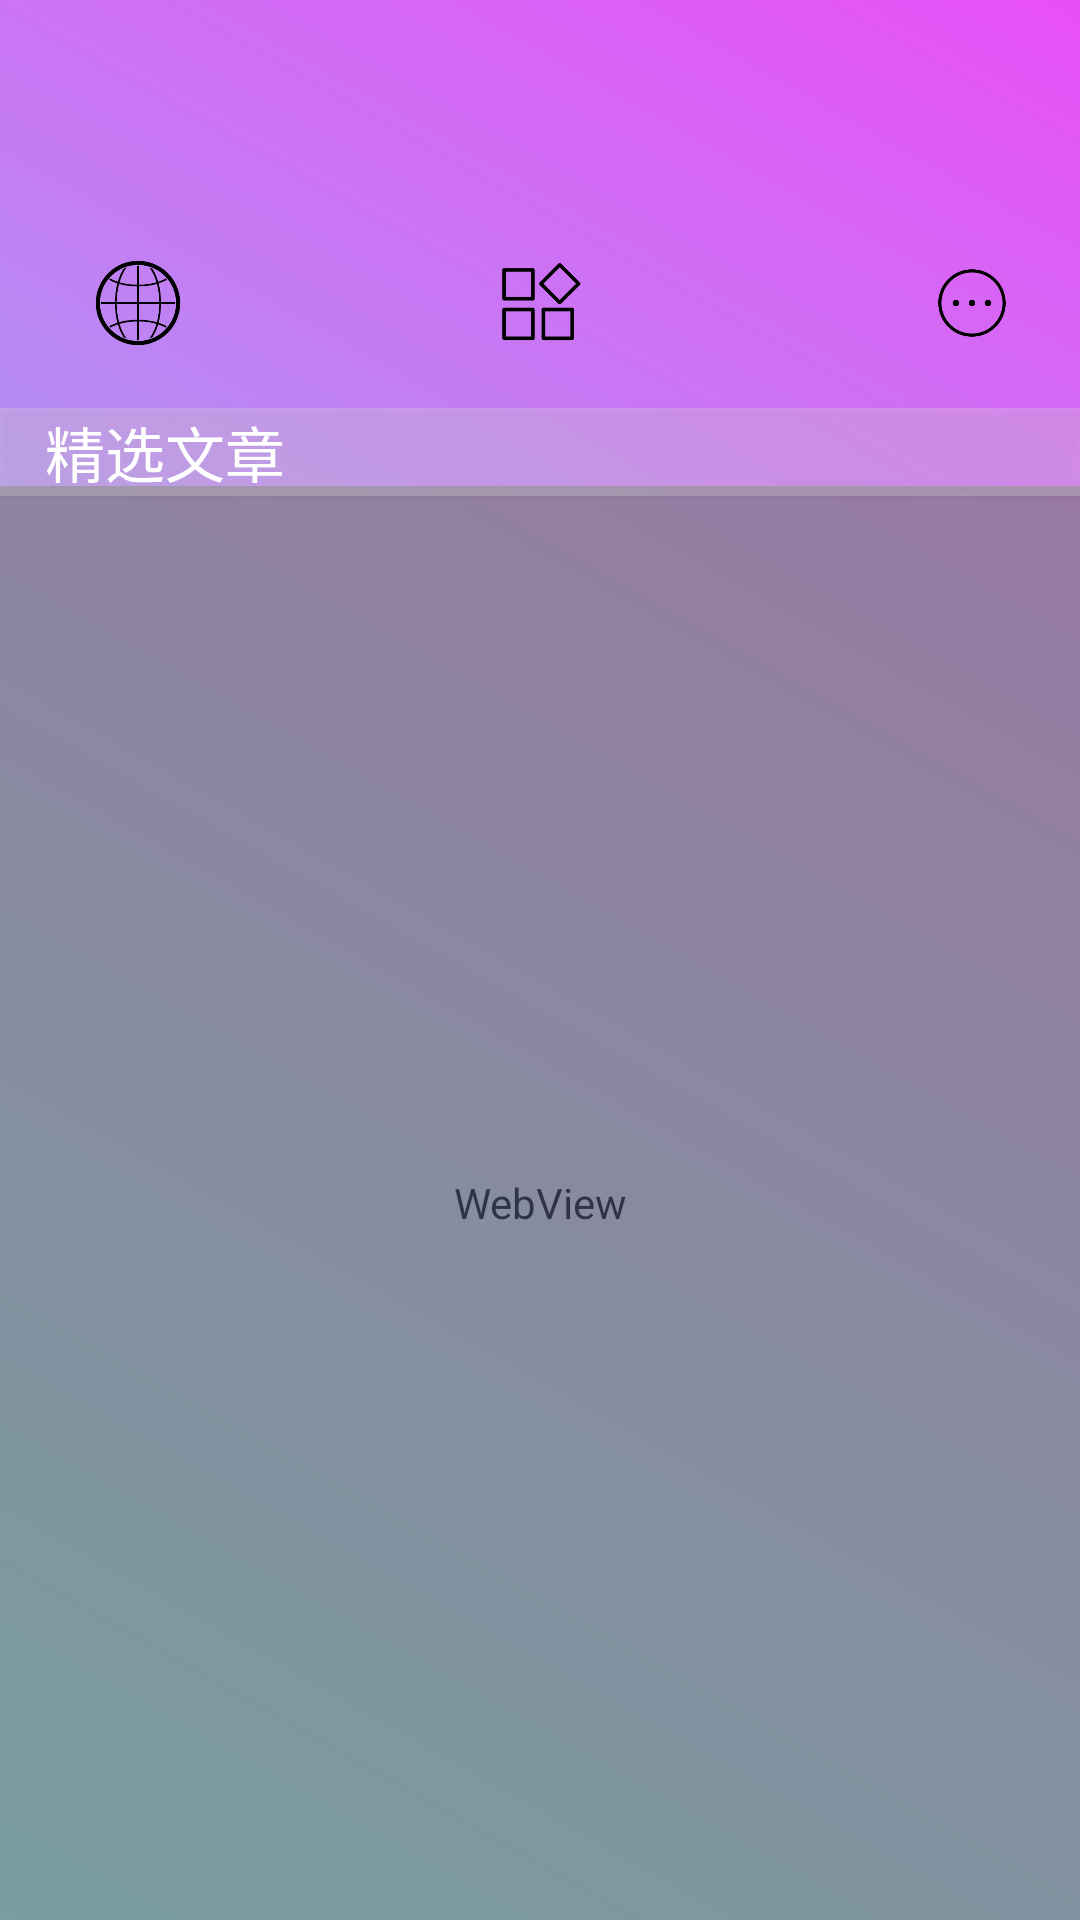

Point at icon controls on the screen. Image size 1080px×1920px, points as (x=x, y=y).
main: (x=541, y=301)
web: (x=138, y=303)
